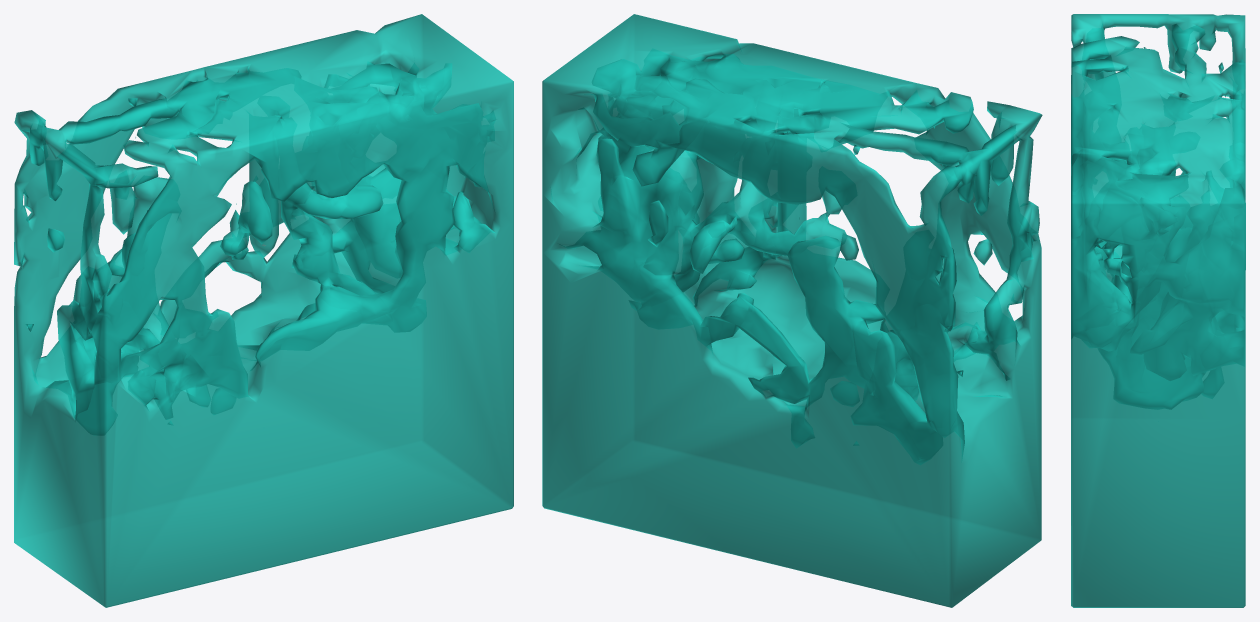
The picture shows the model from 3 angles, left to right: view 1: azimuth 30°, elevation 25°; view 2: azimuth 150°, elevation 25°; view 3: azimuth 270°, elevation 25°; orthographic projection. The views are drawn at different scales.
Parts seen in each view (by area): view 1: Liquid_Domain; view 2: Liquid_Domain; view 3: Liquid_Domain.
Boxes of the visible parts, left/top/right/bottom form: Liquid_Domain: left=14, top=14, right=513, bottom=607; Liquid_Domain: left=542, top=14, right=1042, bottom=607; Liquid_Domain: left=1071, top=14, right=1245, bottom=607.
Bounding box in the file's own units: 1966 × 1966 × 766.
